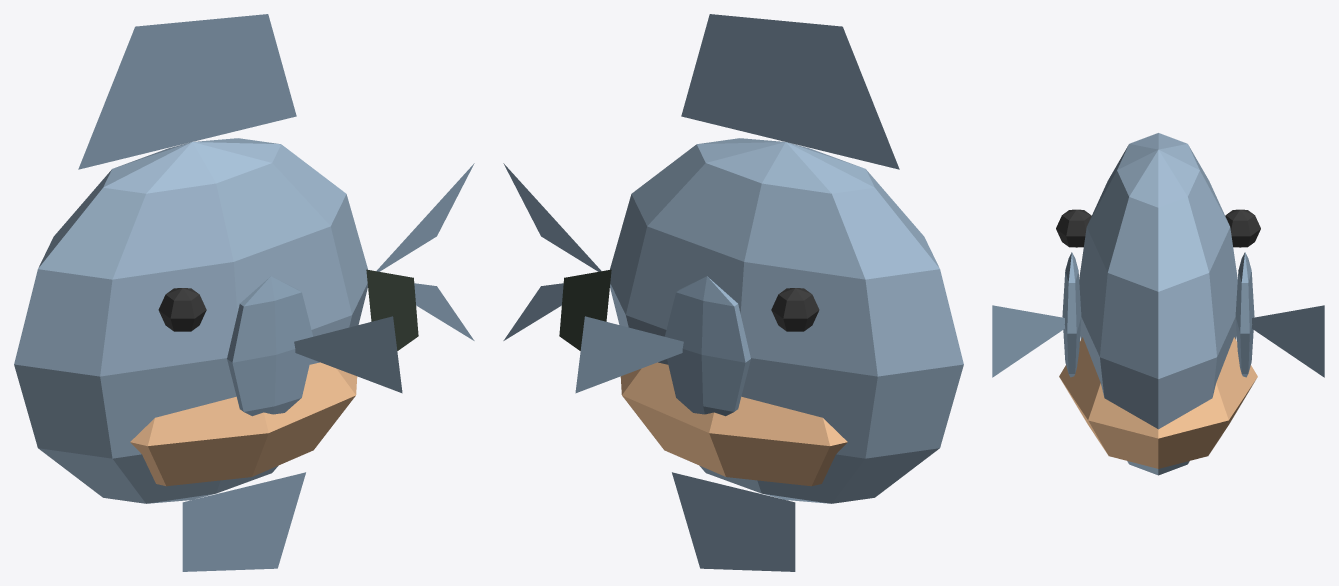
The model's file is fish-bluegill.glb.
3 renders of one model, left to right at view 1: azimuth 30°, elevation 25°; view 2: azimuth 150°, elevation 25°; view 3: azimuth 270°, elevation 25°, orthographic. The views are drawn at different scales.
Visible parts, largest first — view 1: Bluegill; view 2: Bluegill; view 3: Bluegill.
Part boxes in pixels (x1,y1,x2,y2): Bluegill: (14,14,474,571); Bluegill: (503,14,963,571); Bluegill: (992,133,1324,475).
Bounding box in the file's own units: 0.97 × 1.16 × 0.7019.
